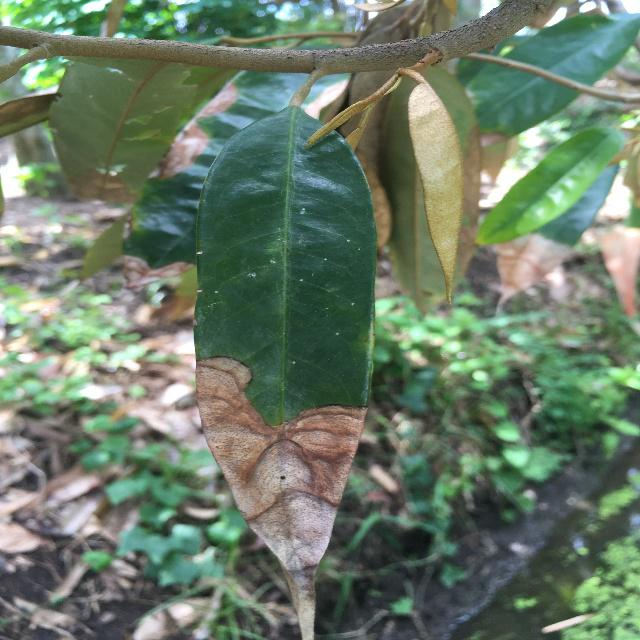Leaf Blight: (187, 97, 384, 639)
